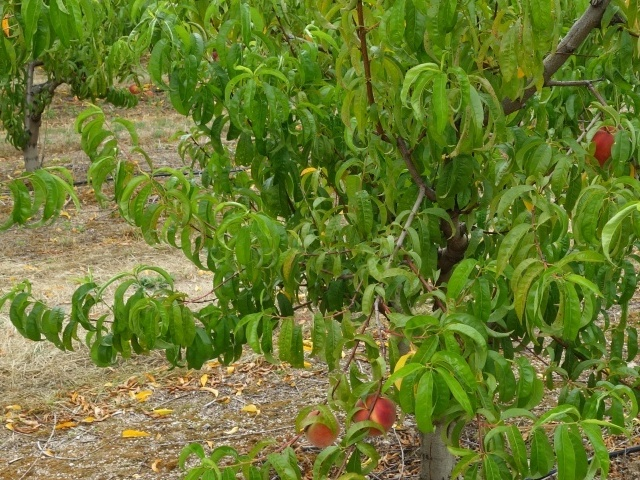peach: (350, 387, 401, 440), (589, 119, 628, 172), (298, 407, 341, 450)
